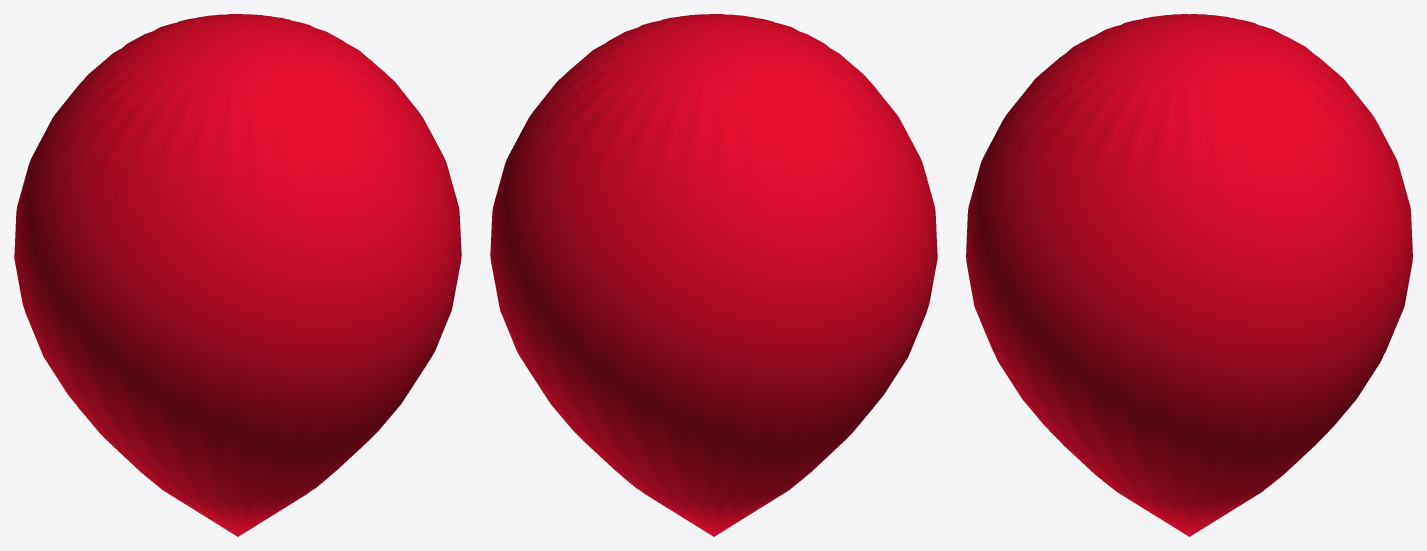
The model's file is Balloon Model.fbx.
3 views of the same model, side by side, from view 1: azimuth 30°, elevation 25°; view 2: azimuth 150°, elevation 25°; view 3: azimuth 270°, elevation 25° (orthographic).
Parts seen in each view (by area): view 1: Balloon; view 2: Balloon; view 3: Balloon.
Part boxes in pixels (x1,y1,x2,y2): Balloon: [14, 14, 461, 536]; Balloon: [490, 14, 937, 536]; Balloon: [966, 14, 1412, 536].
Bounding box in the file's own units: 31.22 × 38.96 × 31.22.
